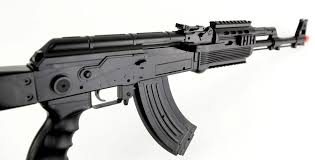gun: (0, 17, 309, 159)
